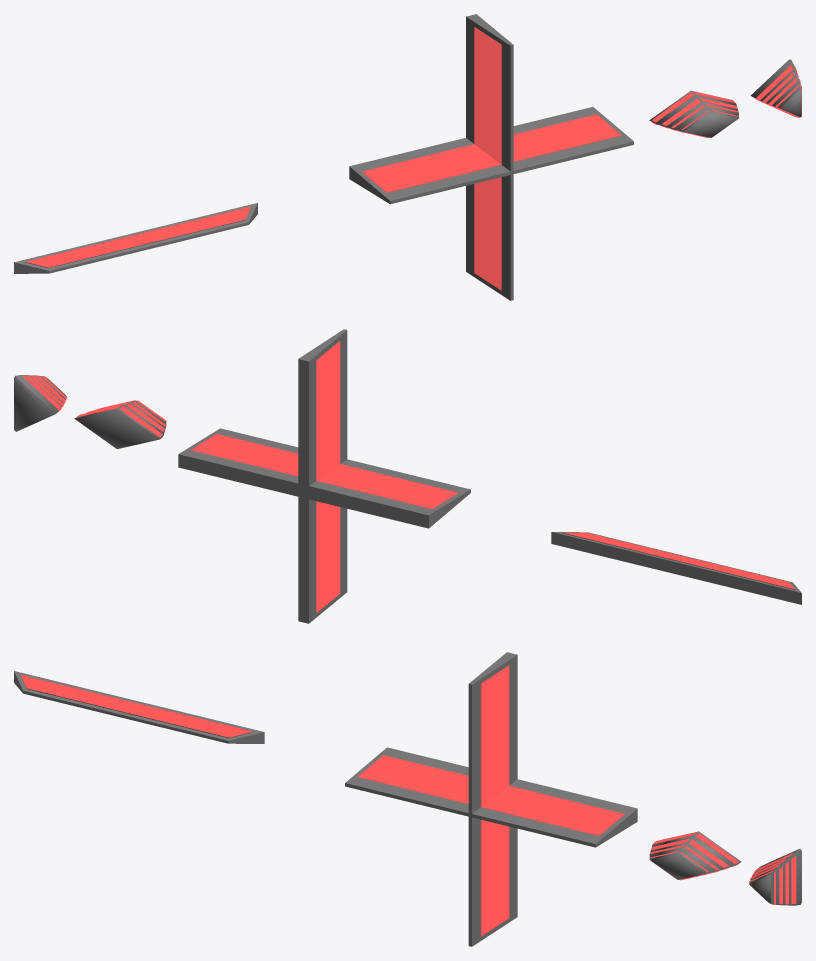
Rendered from Platforms.fbx.
The picture shows the model from 3 angles, top to bottom: view 1: azimuth 30°, elevation 25°; view 2: azimuth 150°, elevation 25°; view 3: azimuth 330°, elevation 25°; orthographic projection. The views are drawn at different scales.
Parts seen in each view (by area): view 1: Box003, Object001, Box006, Box007; view 2: Box003, Object001, Box006, Box007; view 3: Box003, Object001, Box006, Box007.
Boxes of the visible parts, x1,y1,x2,y2 form: Box003: (349, 14, 633, 300); Object001: (14, 203, 257, 273); Box006: (649, 90, 738, 138); Box007: (750, 59, 801, 117); Box003: (178, 329, 470, 623); Object001: (551, 532, 801, 604); Box006: (74, 400, 166, 448); Box007: (14, 375, 66, 431); Box003: (345, 652, 637, 946); Object001: (14, 671, 264, 743); Box006: (649, 831, 741, 880); Box007: (748, 849, 801, 905).
Size of the model in its own units: 1637 by 517 by 151.
